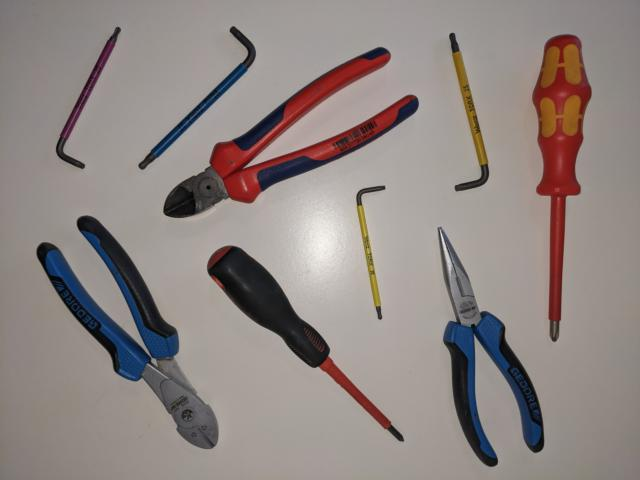Inbusschlüssel: (135, 24, 259, 173), (54, 23, 124, 171), (444, 29, 491, 193), (354, 183, 390, 321)
Schraubendreher: (205, 242, 408, 446), (527, 31, 595, 345)
Seitenschneider: (160, 45, 422, 222), (33, 212, 222, 452)
Zange: (432, 223, 548, 469)
